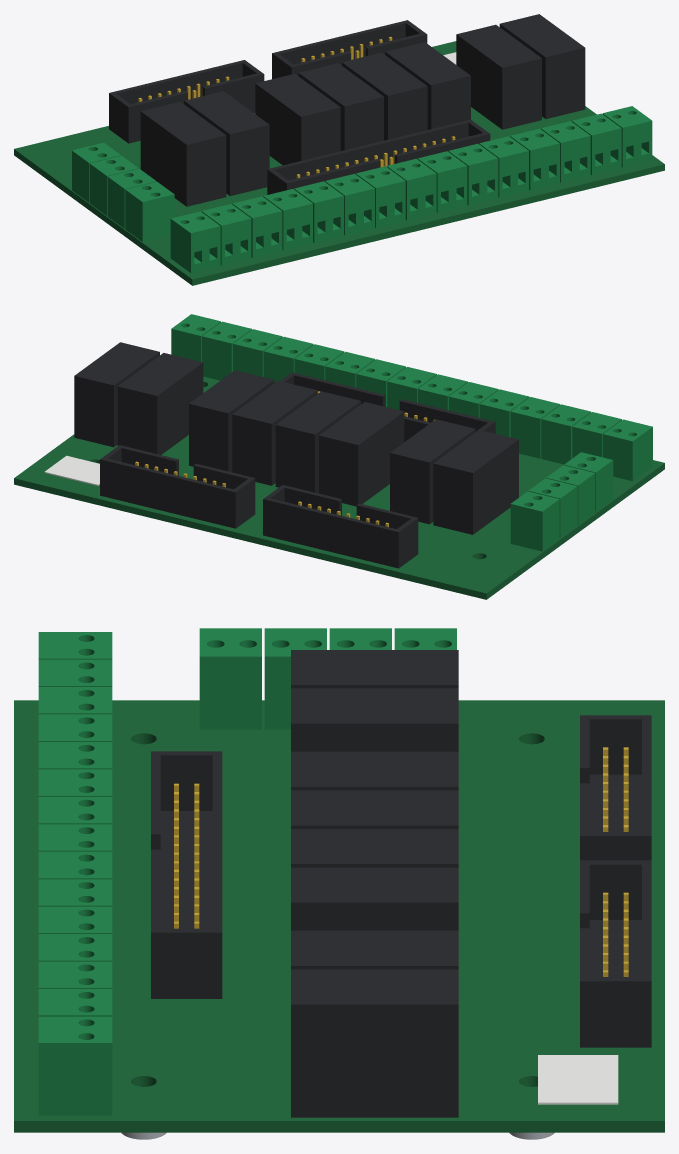
File: adaptor_pcb.glb
3 views of the same model, one above another, from view 1: azimuth 30°, elevation 25°; view 2: azimuth 150°, elevation 25°; view 3: azimuth 270°, elevation 25° (orthographic). The views are drawn at different scales.
Parts seen in each view (by area): view 1: terminals_1_30, housing, relay_R1, relay_R7, relay_R3, st3, st1, relay_R8, relay_R2, relay_R4, relay_R6, relay_R5 (+6 smaller); view 2: terminals_1_30, housing, st1, st2, relay_R1, relay_R7, relay_R3, relay_R8, relay_R5, relay_R2, relay_R4, relay_R6 (+6 smaller); view 3: housing, terminals_1_30, relay_R8, st3, st2, relay_R2, relay_R6, st1, relay_R3, relay_R7, relay_R1, relay_R4 (+9 smaller).
Part boxes in pixels (x1,y1,x2,y2): terminals_1_30: (170,106,652,272); housing: (14,41,664,285); relay_R1: (140,101,226,206); relay_R7: (456,24,541,129); relay_R3: (255,73,340,165); st3: (267,119,490,194); st1: (109,60,264,143); relay_R8: (499,14,585,118); relay_R2: (184,91,269,196); relay_R4: (298,63,383,150); relay_R6: (385,42,470,129); relay_R5: (342,52,427,140); terminals_1_30: (171,314,652,481); housing: (14,376,664,599); st1: (263,485,418,568); st2: (100,445,255,528); relay_R1: (433,430,518,534); relay_R7: (117,353,203,454); relay_R3: (319,402,404,506); relay_R8: (74,342,159,447); relay_R5: (232,380,317,485); relay_R2: (390,419,475,524); relay_R4: (275,391,360,493); relay_R6: (189,370,274,472); housing: (14,700,664,1132); terminals_1_30: (38,632,112,1115); relay_R8: (291,969,458,1117); st3: (151,751,222,998); st2: (580,860,651,1047); relay_R2: (291,688,458,751); relay_R6: (291,867,458,930); st1: (580,715,651,860); relay_R3: (291,751,458,790); relay_R7: (291,930,458,969); relay_R1: (291,650,458,688); relay_R4: (291,790,458,828).
Size of the model in its own units: 0.1238 by 0.0221 by 0.081.
